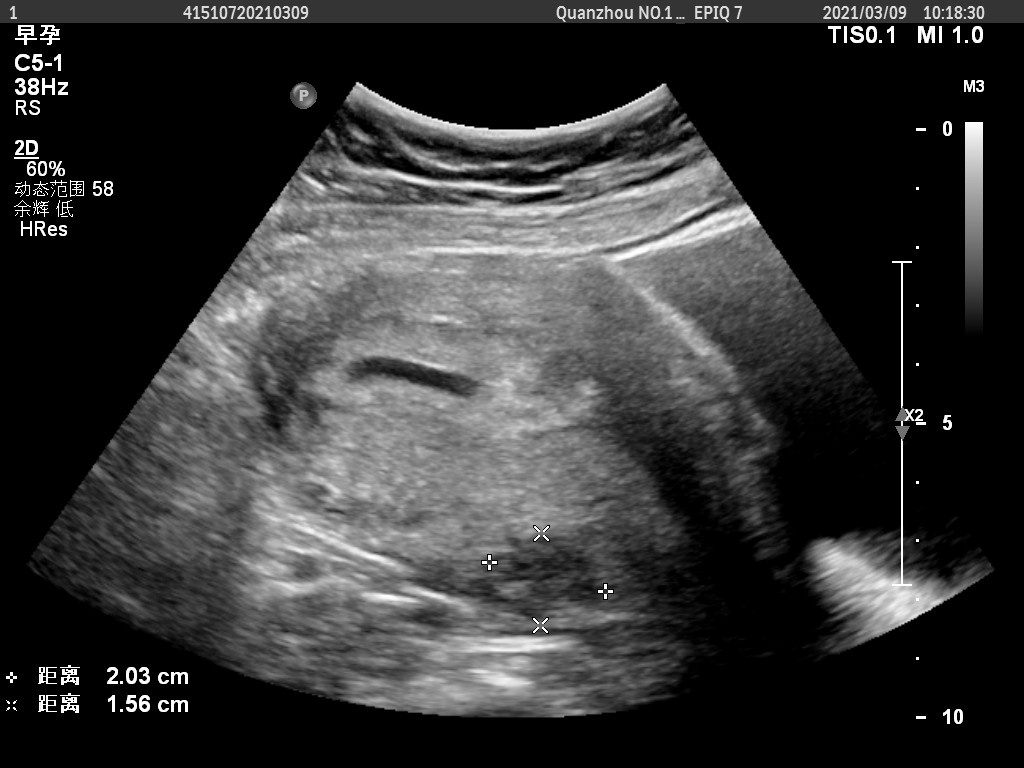肌瘤: (512, 539, 596, 604)
